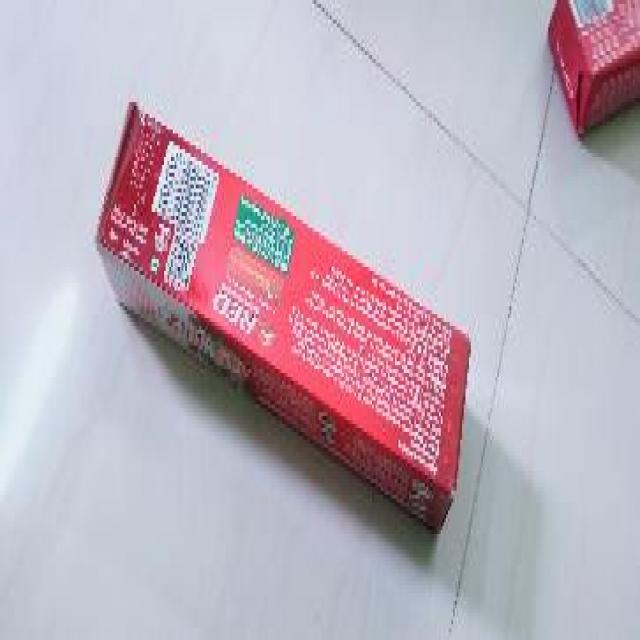tooth paste: (78, 73, 470, 540)
